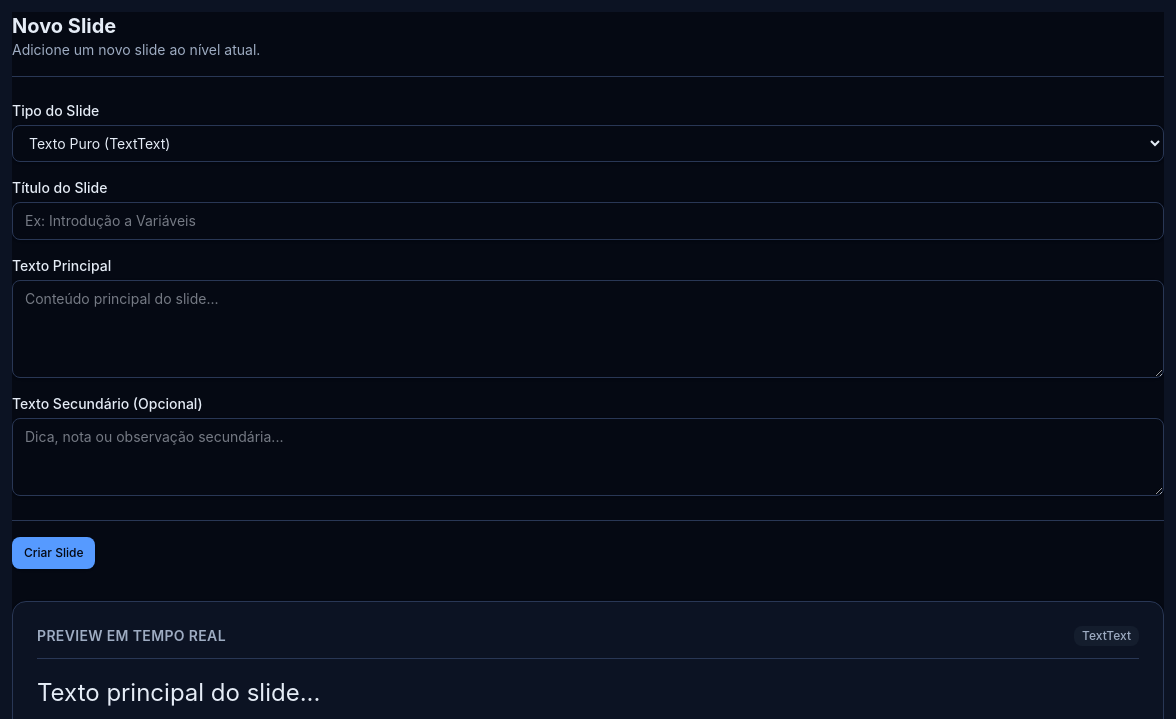
SlideForm › renders TextText form and validates mandatory primaryText
The width and height of the screenshot is (1176, 719).
Expected: the heading "Novo Slide" is shown, [12, 14, 116, 38]
Step 1. Click the button "Criar Slide" → (54, 553), box [12, 537, 96, 569]
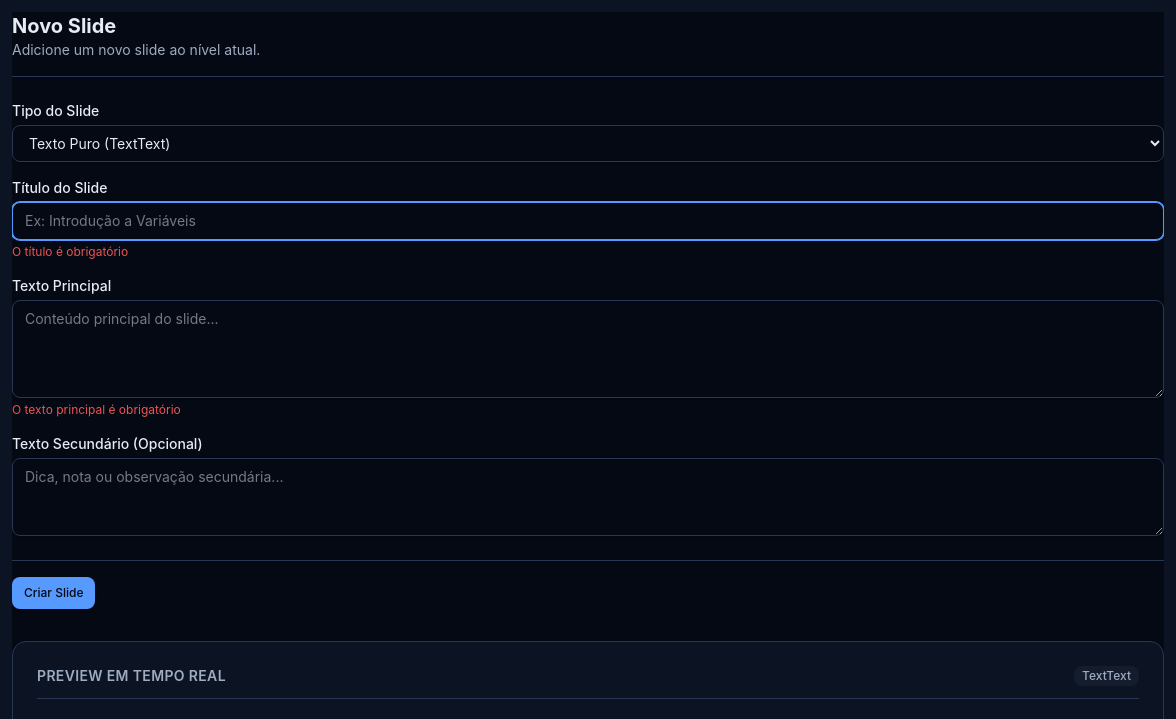
Now the text "O título é obrigatório" is shown, box [12, 244, 128, 259]
Now the text "O texto principal é obrigatório" is shown, box [12, 402, 181, 417]
